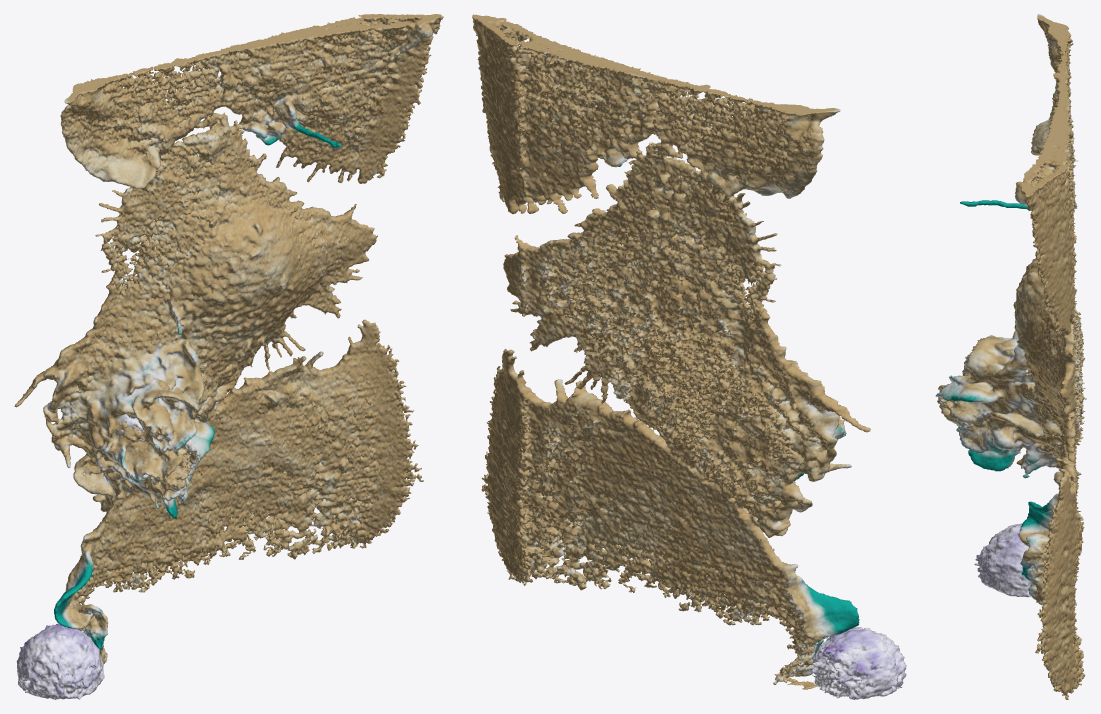
File: Surfaces_14.glb
3 renders of one model, left to right at view 1: azimuth 30°, elevation 25°; view 2: azimuth 150°, elevation 25°; view 3: azimuth 270°, elevation 25°, orthographic.
Parts seen in each view (by area): view 1: surface (×2); view 2: surface (×2); view 3: surface (×2).
Part boxes in pixels (bbox=[...]): surface (×2): bbox=[14, 14, 443, 699]; surface (×2): bbox=[472, 14, 906, 699]; surface (×2): bbox=[935, 14, 1086, 699].
Size of the model in its own units: 592 by 764 by 183.
